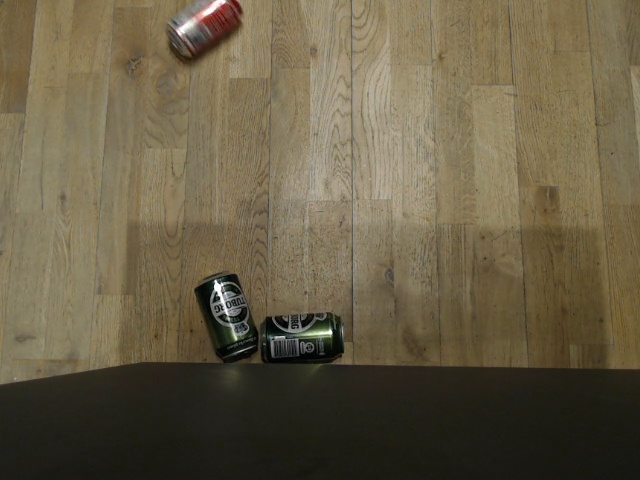beer: (194, 269, 259, 363), (260, 310, 345, 363)
cola: (165, 0, 245, 57)
